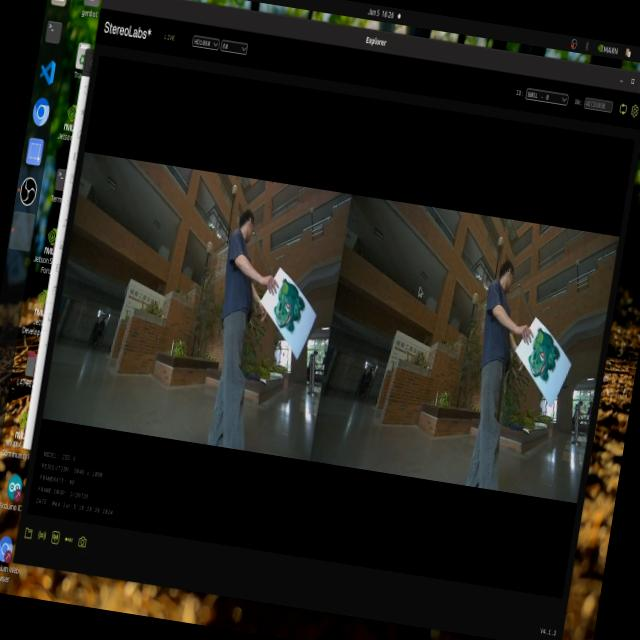green: (266, 270, 310, 343), (523, 322, 570, 388)
